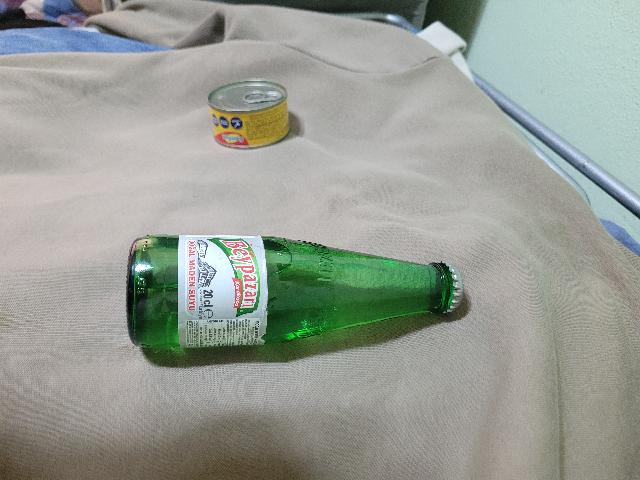Cam: (127, 232, 450, 356), (208, 80, 292, 148)
Kagit: (176, 230, 271, 347)
Metal: (440, 262, 469, 318)
